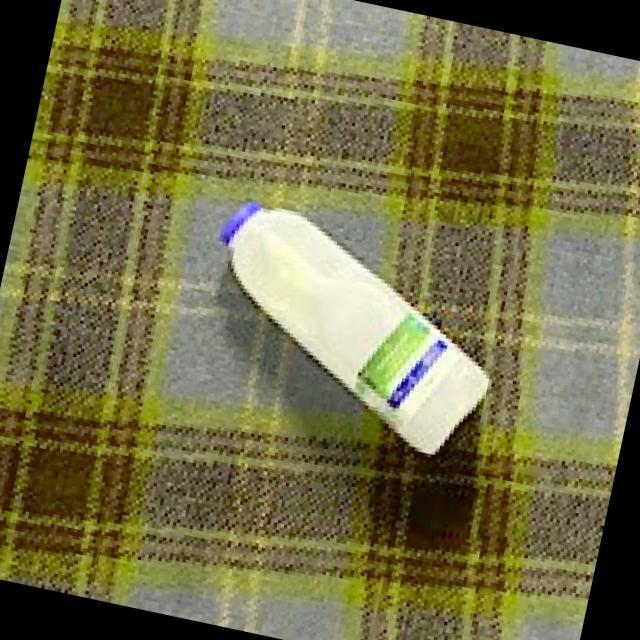HDPE Plastic: (218, 196, 496, 460)
